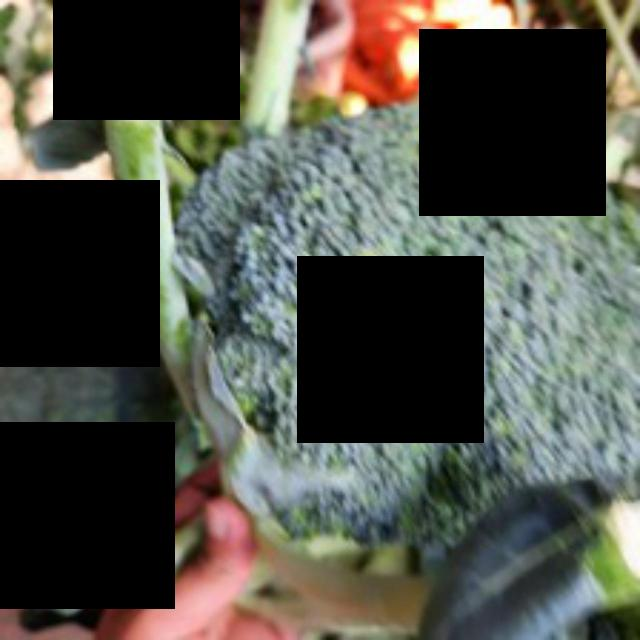broccoli: (157, 103, 637, 557)
